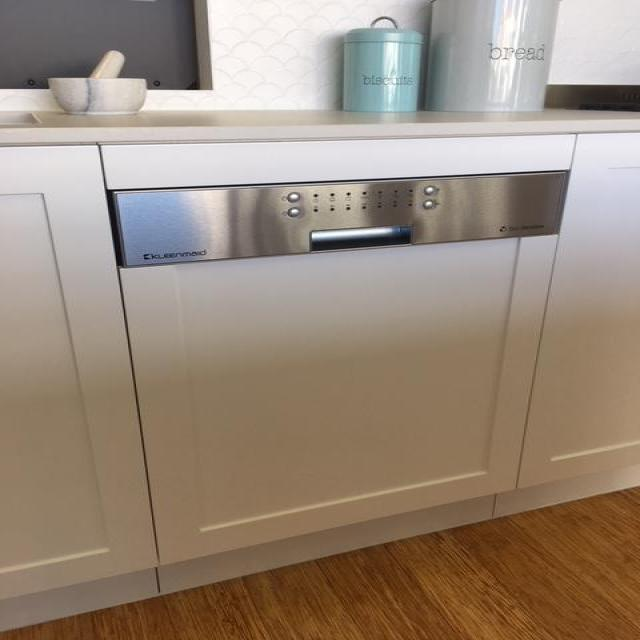dishwasher: (87, 121, 587, 584)
